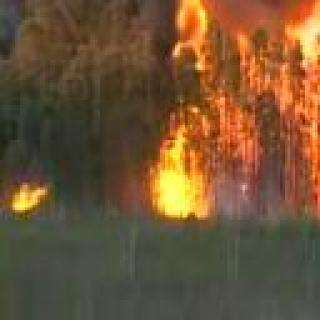fire: (150, 0, 320, 220), (11, 180, 53, 211)
